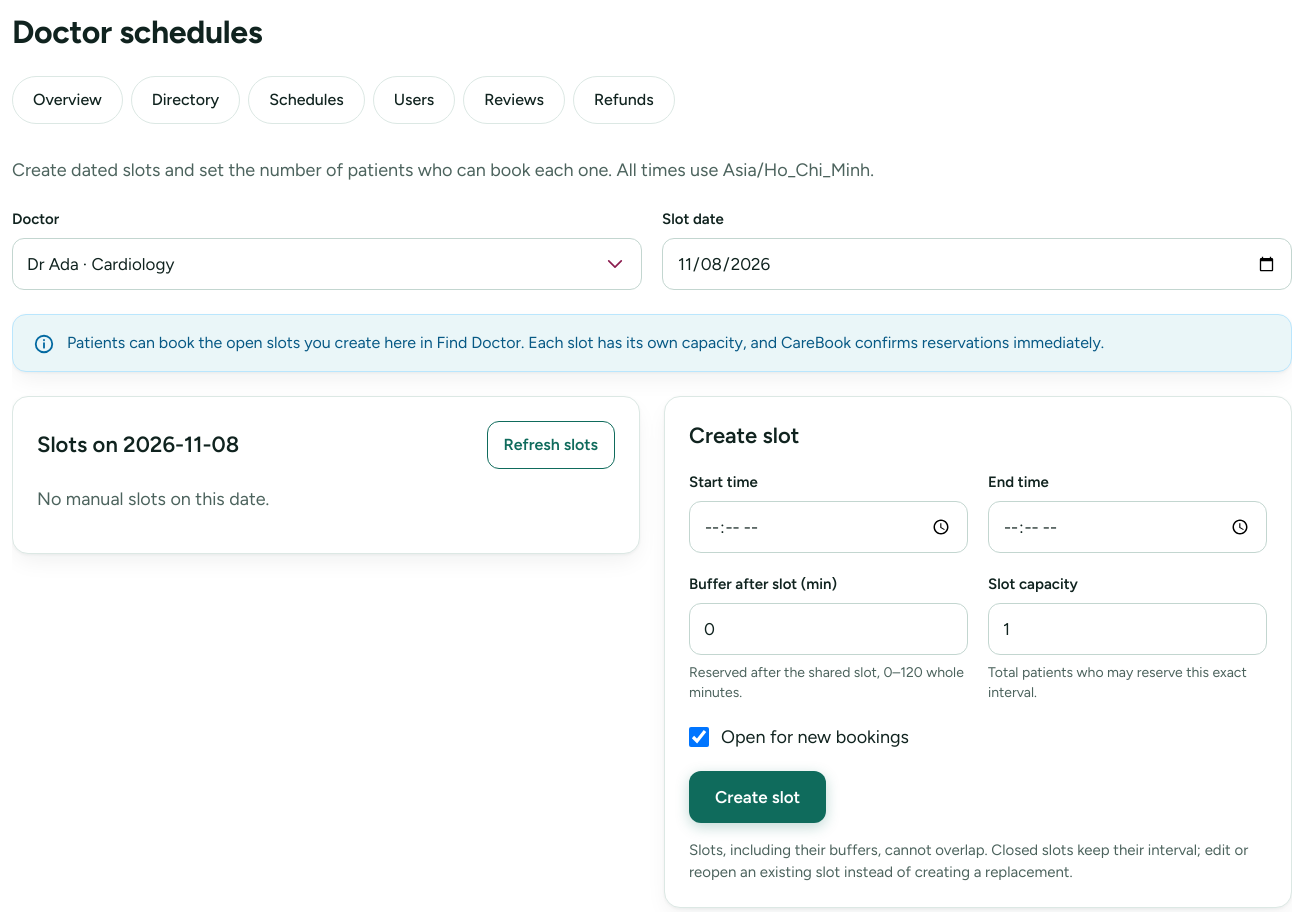
Test case: creates a dated shared slot with its own capacity and clinic-local times
Expected: the text "No manual slots on this date." is shown, [37,488,269,510]
Expected: the number field labelled "Slot capacity" holds "1", [988,603,1267,655]
Type "08:00" into the time field labelled "Start time" at (828,527), box [689,501,968,553]
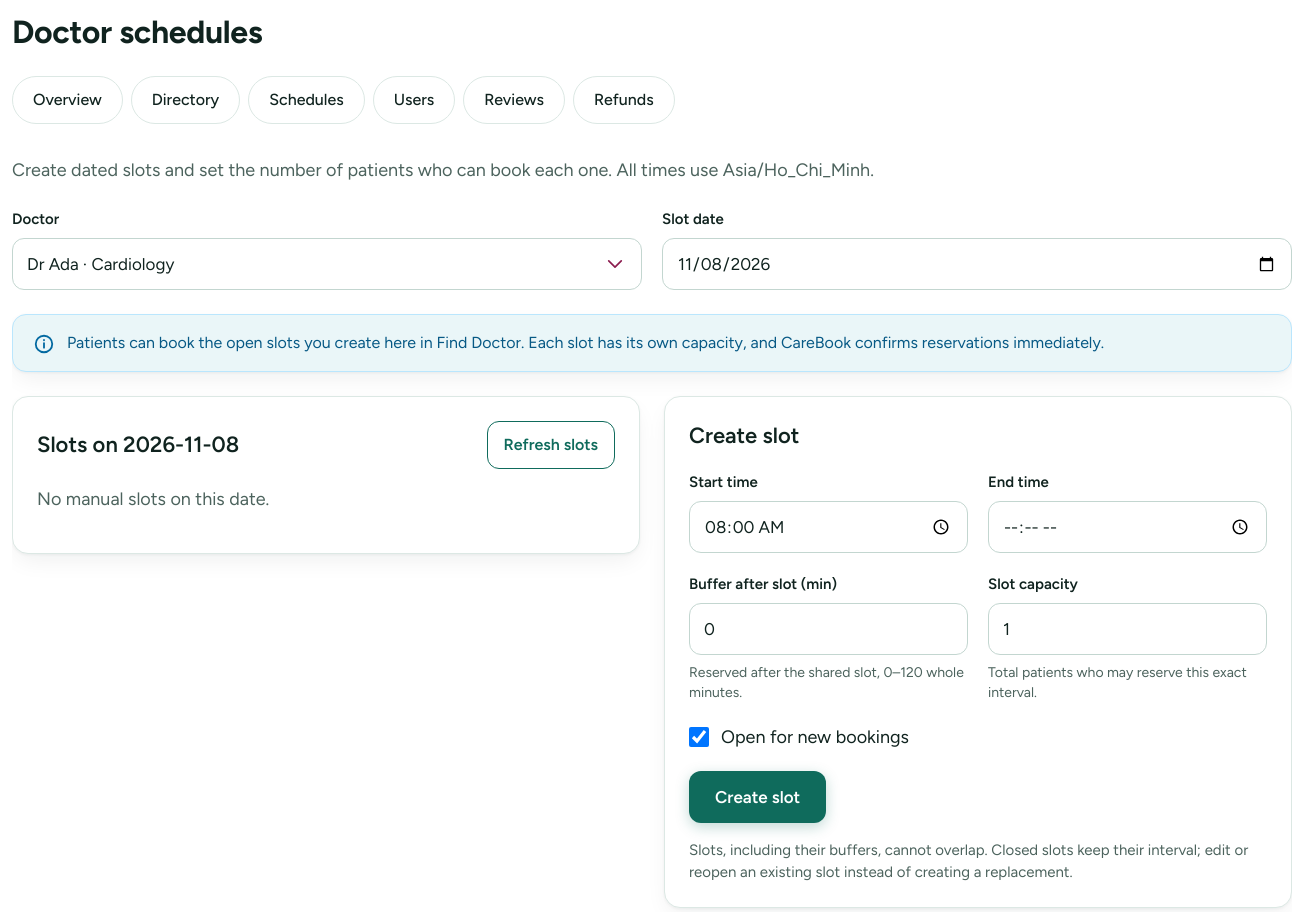
Type "08:30" into the time field labelled "End time" at (1128,527), box [988,501,1267,553]
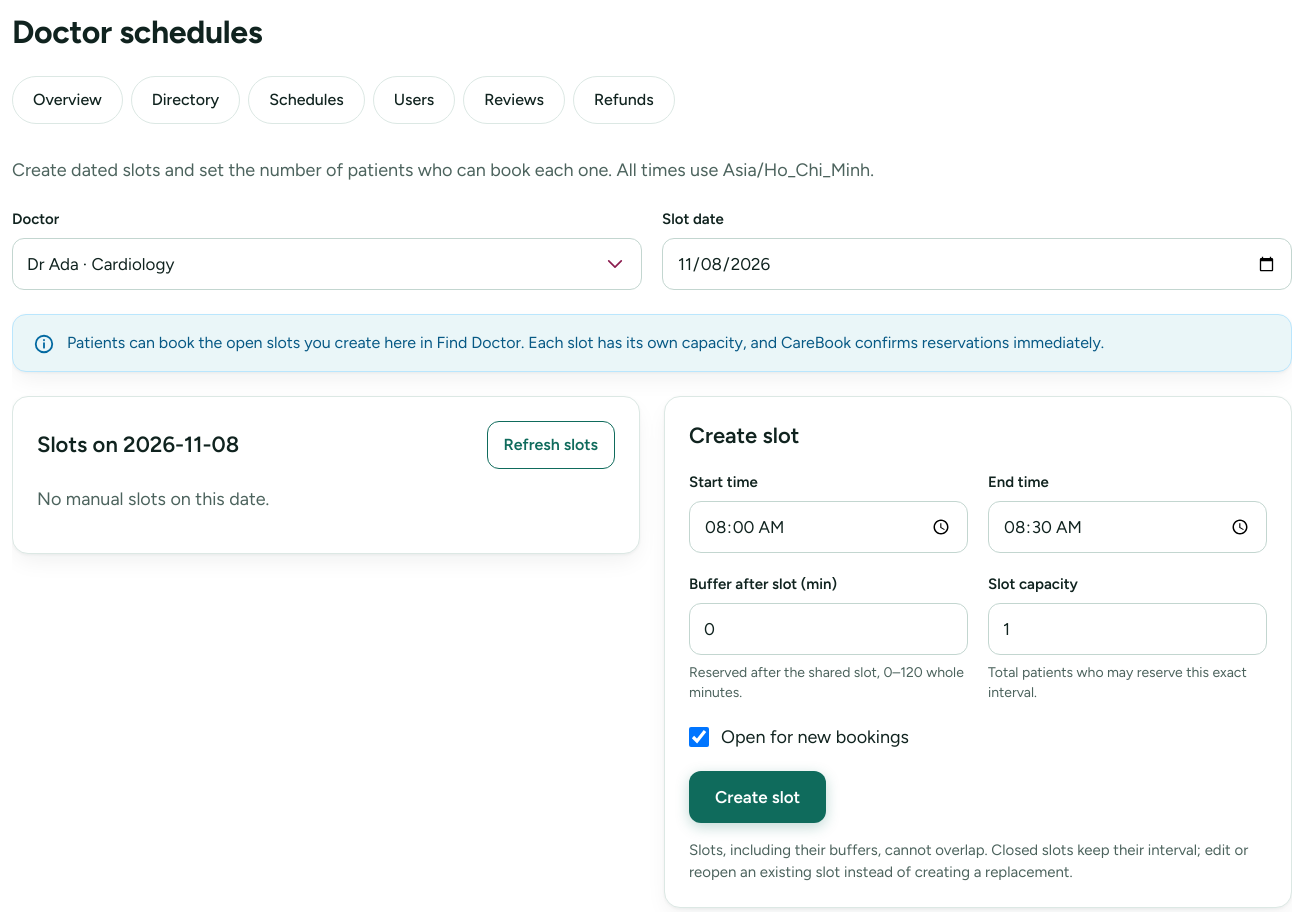
Replace the text in the number field labelled "Slot capacity" with "5" at (1128,629), box [988,603,1267,655]
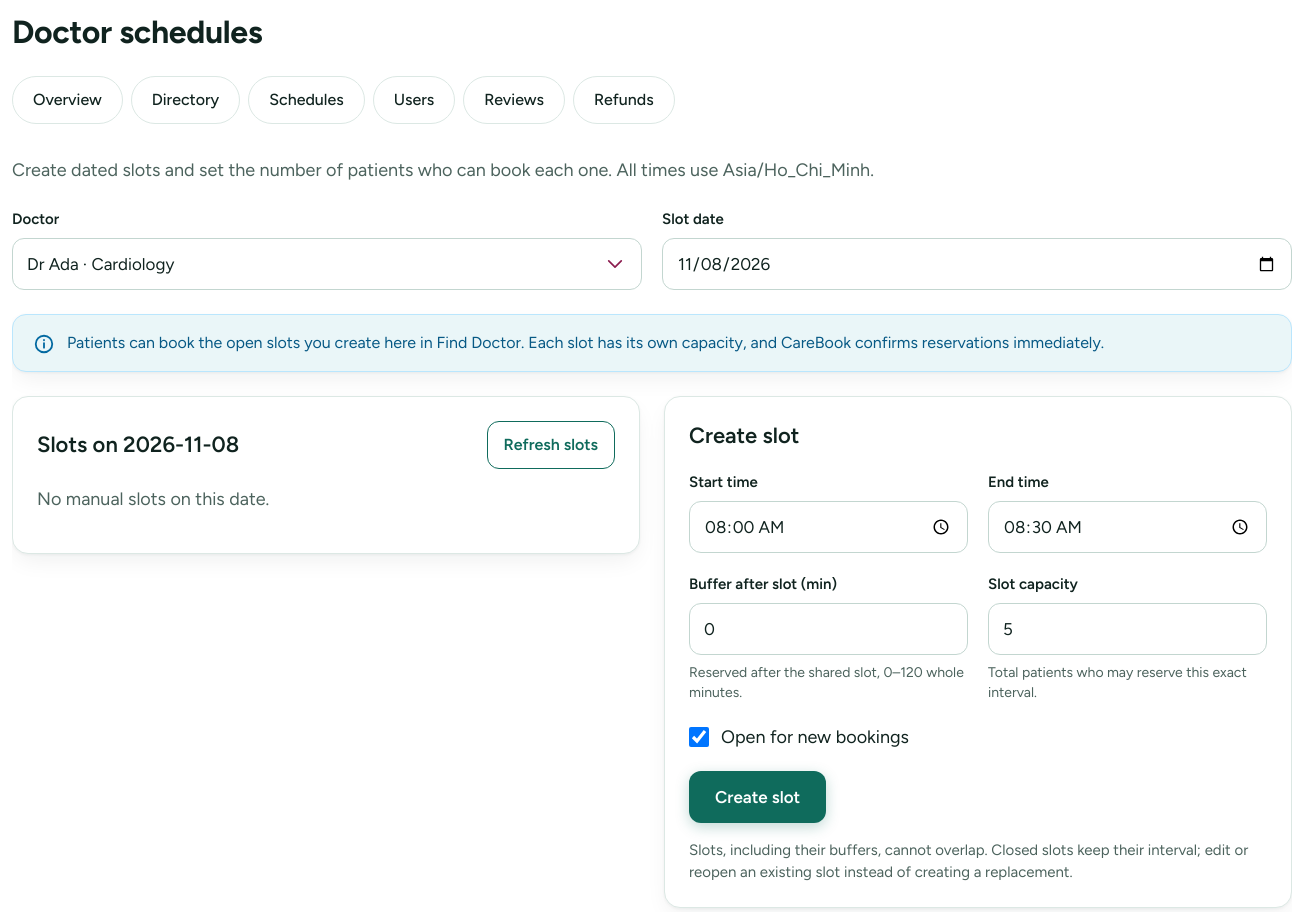
Click the button "Create slot" at (758,797), box [689,771,826,823]
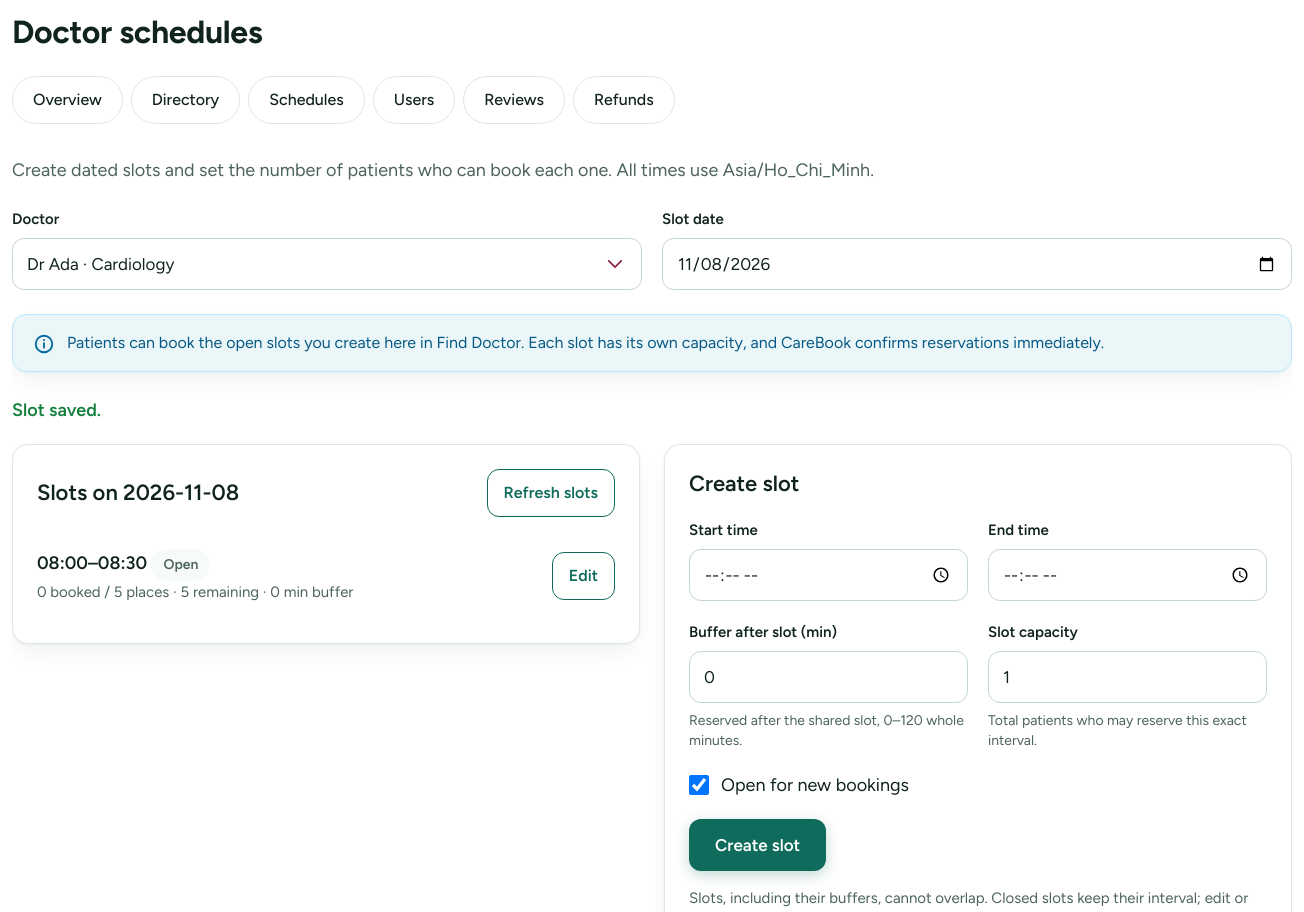
Expected: the message reads "Slot saved.", [12,399,101,421]
Expected: the text "0 booked / 5 places · 5 remaining · 0 min buffer" is shown, [37,581,353,603]
Expected: the time field labelled "Start time" is empty, [689,549,968,601]
